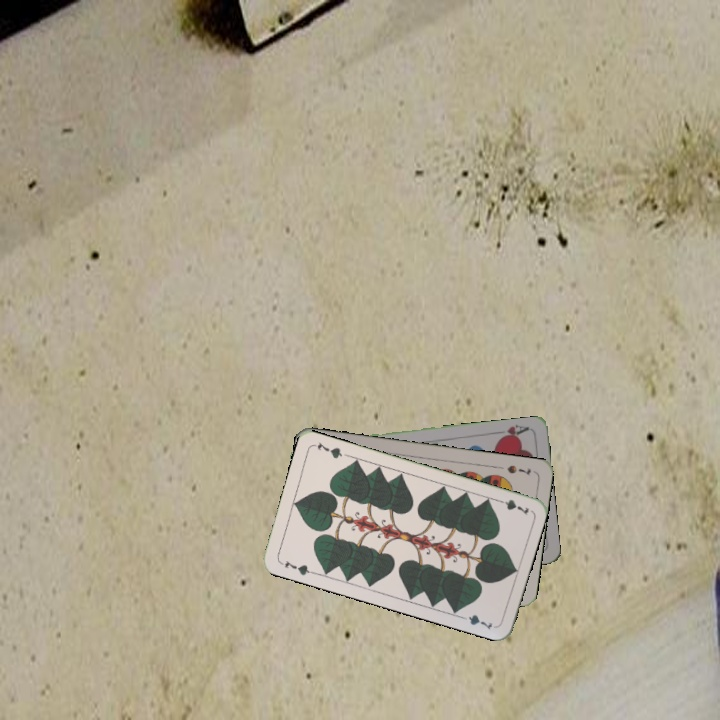G7: (492, 495, 532, 517), (276, 556, 316, 578)
HA: (491, 421, 532, 443)
S7: (503, 461, 534, 478)
